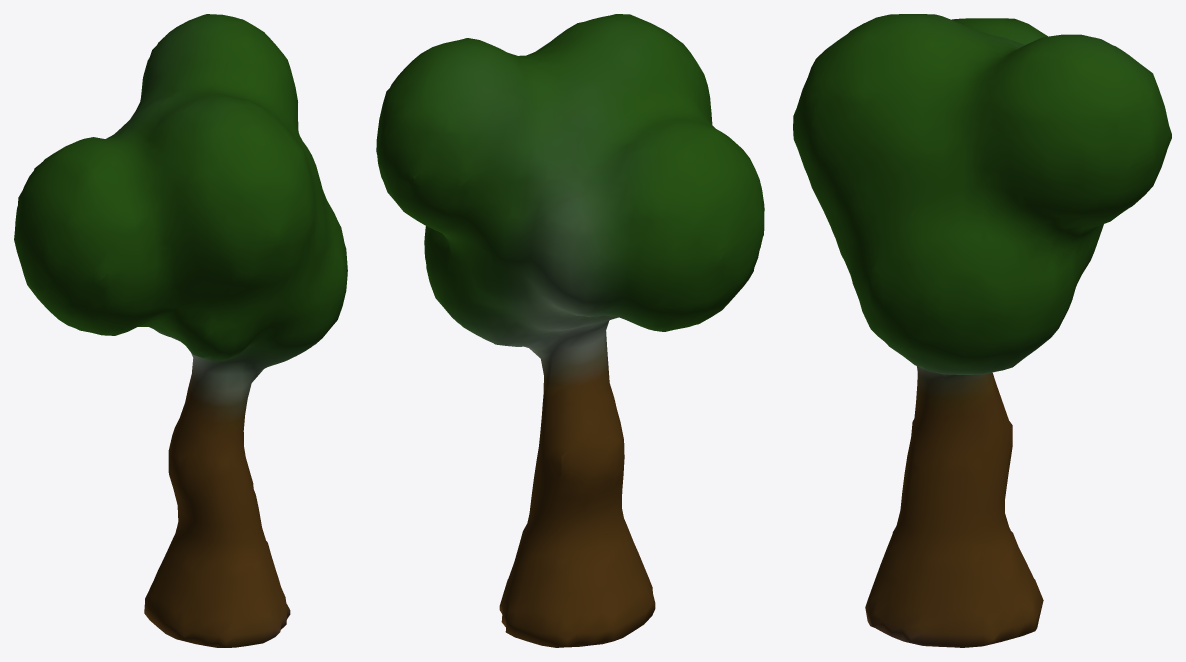
File: Blobbed_4.glb
3 renders of one model, left to right at view 1: azimuth 30°, elevation 25°; view 2: azimuth 150°, elevation 25°; view 3: azimuth 270°, elevation 25°, orthographic. The views are drawn at different scales.
Parts seen in each view (by area): view 1: Blobbed_4; view 2: Blobbed_4; view 3: Blobbed_4.
Part boxes in pixels (left/top/right/bottom): Blobbed_4: left=14, top=14, right=347, bottom=647; Blobbed_4: left=376, top=14, right=764, bottom=647; Blobbed_4: left=793, top=14, right=1171, bottom=647.
Size of the model in its own units: 2.24 by 4.04 by 2.27.
